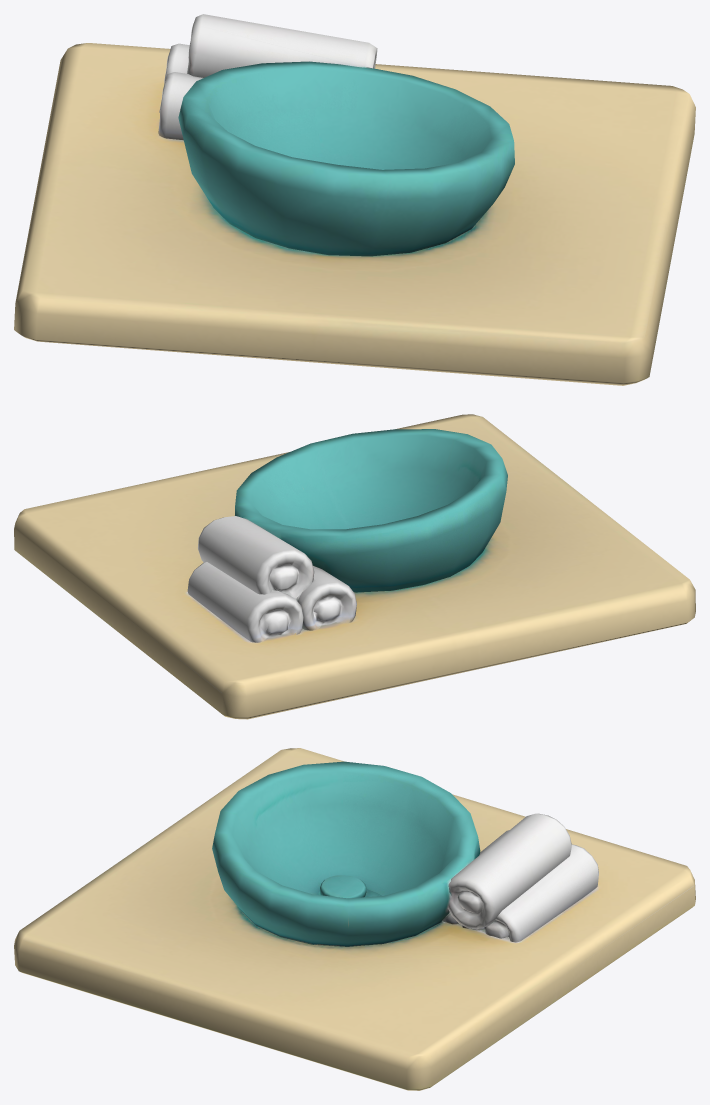
3 renders of one model, top to bottom at view 1: azimuth 30°, elevation 25°; view 2: azimuth 150°, elevation 25°; view 3: azimuth 270°, elevation 25°, orthographic. The views are drawn at different scales.
Parts seen in each view (by area): view 1: tripo_node_d0b1ea1e-f29f-45eb-8878-7ef62cb69509; view 2: tripo_node_d0b1ea1e-f29f-45eb-8878-7ef62cb69509; view 3: tripo_node_d0b1ea1e-f29f-45eb-8878-7ef62cb69509.
Boxes of the visible parts, left/top/right/bottom form: tripo_node_d0b1ea1e-f29f-45eb-8878-7ef62cb69509: left=14, top=14, right=695, bottom=385; tripo_node_d0b1ea1e-f29f-45eb-8878-7ef62cb69509: left=14, top=414, right=695, bottom=719; tripo_node_d0b1ea1e-f29f-45eb-8878-7ef62cb69509: left=14, top=748, right=695, bottom=1090.
Bounding box in the file's own units: 1.35 × 0.2793 × 1.35.
Materials: 1 (1 with a texture image).
